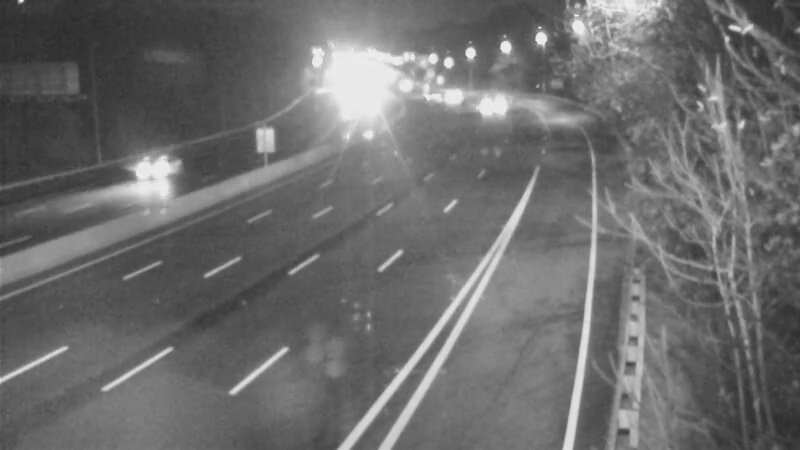vehicle: (119, 127, 199, 207), (464, 77, 514, 127)
